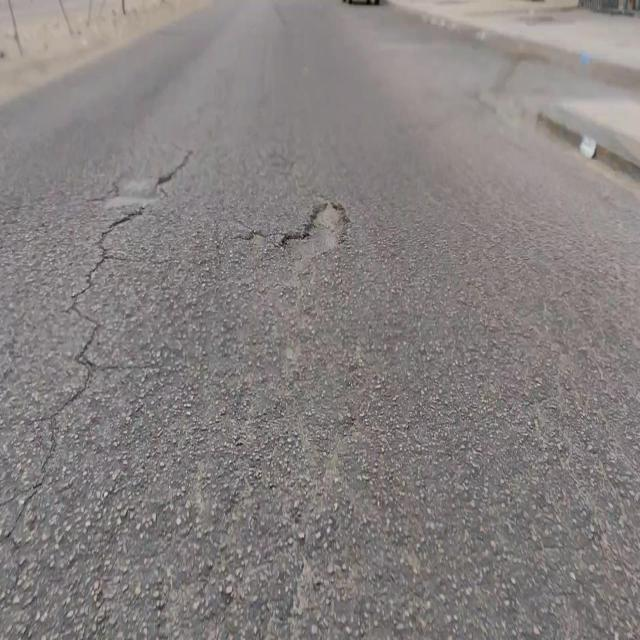Pothole: (278, 197, 352, 266)
